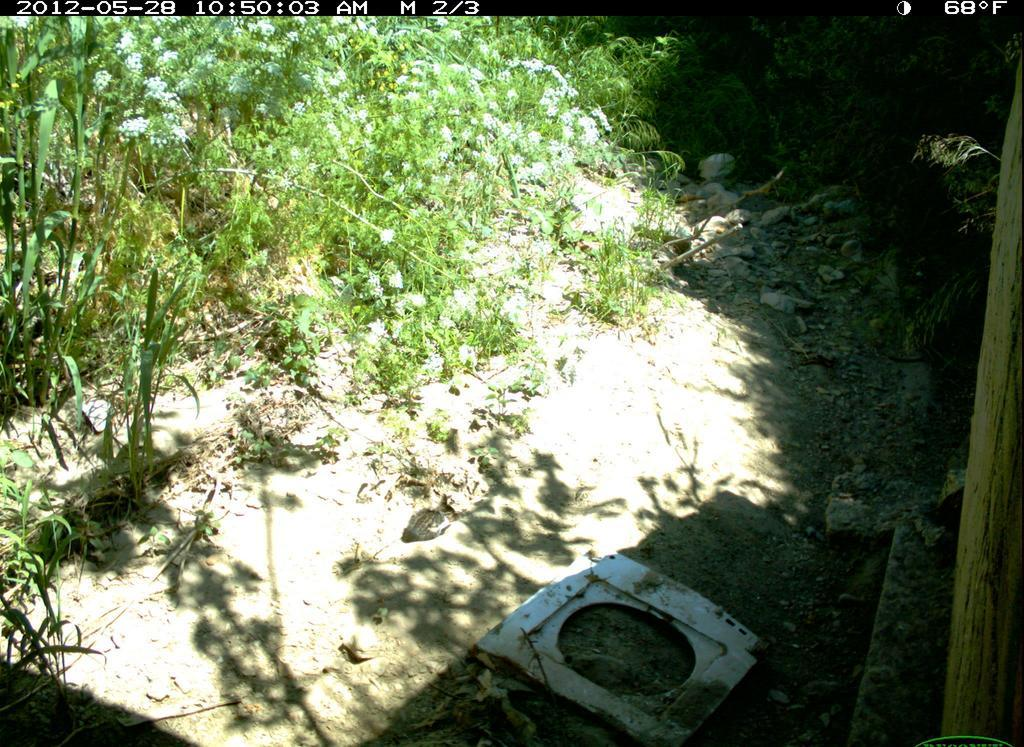cat: (399, 489, 476, 556)
